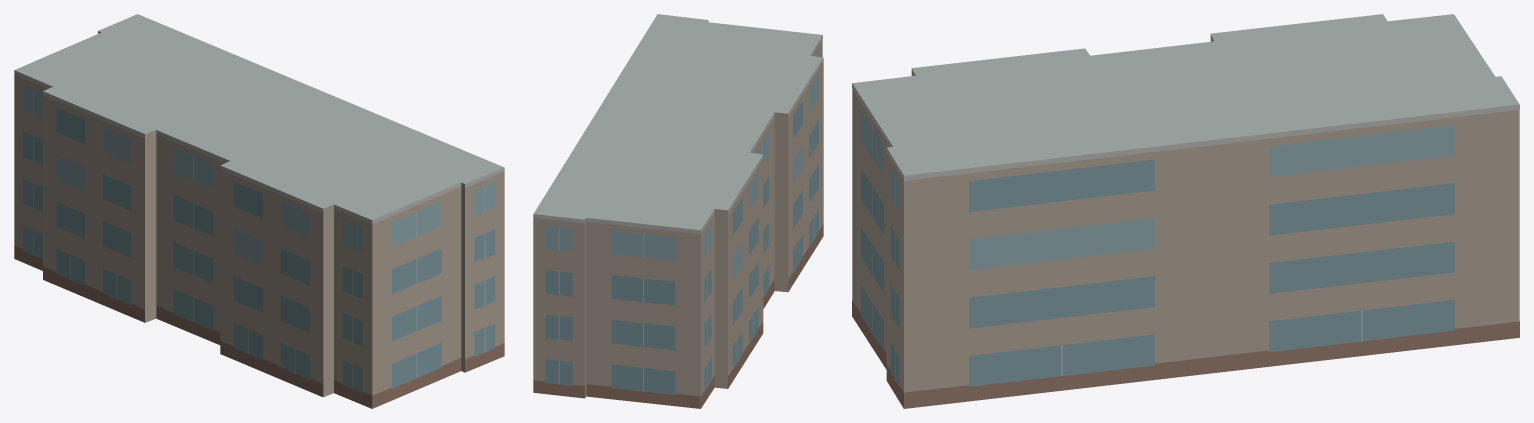
The model's file is survey-upis-32614899.glb.
The picture shows the model from 3 angles, left to right: view 1: azimuth 30°, elevation 25°; view 2: azimuth 150°, elevation 25°; view 3: azimuth 270°, elevation 25°; orthographic projection. The views are drawn at different scales.
Parts seen in each view (by area): view 1: survey-upis-32614899.tmp; view 2: survey-upis-32614899.tmp; view 3: survey-upis-32614899.tmp.
Part boxes in pixels (<box>): survey-upis-32614899.tmp: <box>14,14,504,408</box>; survey-upis-32614899.tmp: <box>533,14,823,408</box>; survey-upis-32614899.tmp: <box>852,14,1519,408</box>.
Size of the model in its own units: 16.37 by 11 by 28.55.
